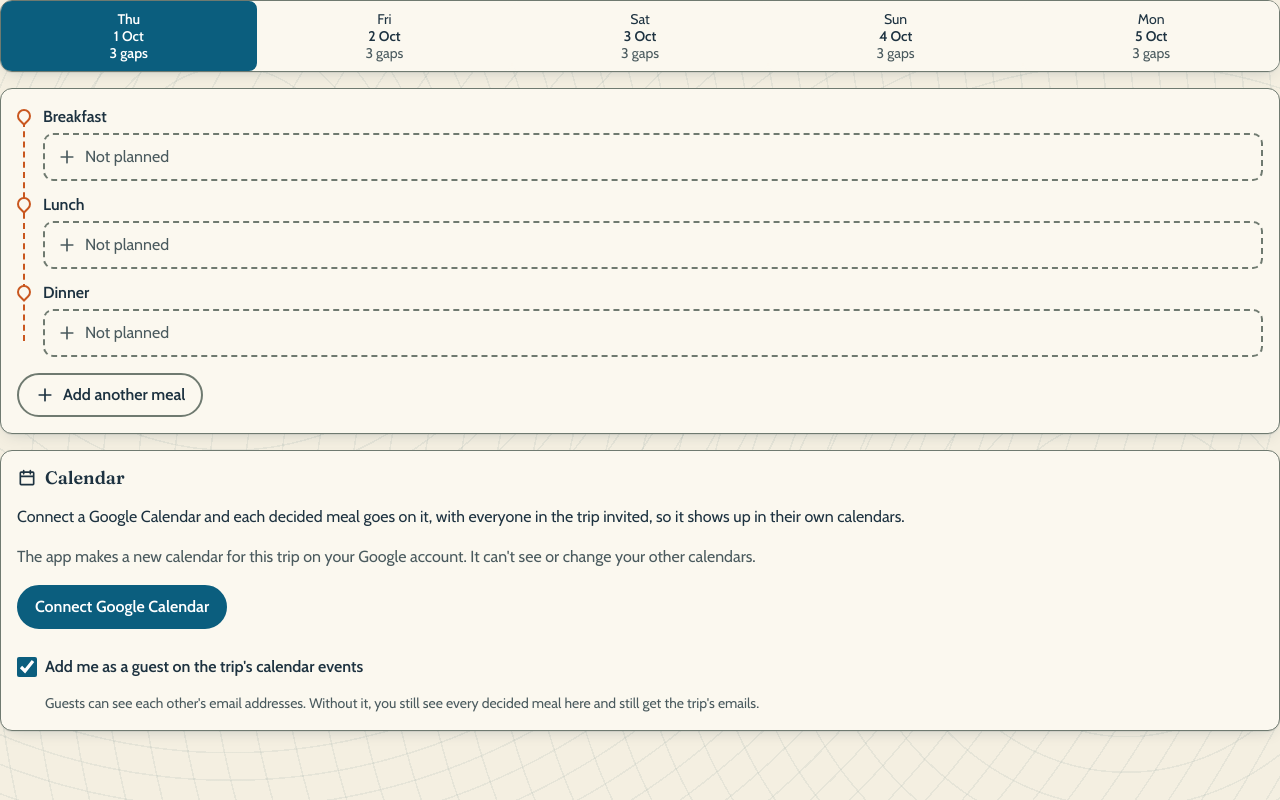
Test case: proposing from the grid › shows when a proposal was made on the trip's clock
Click the button "Dinner Not planned" at (653, 319), box x1=43 y1=281 x2=1263 y2=357
(page scrolled)
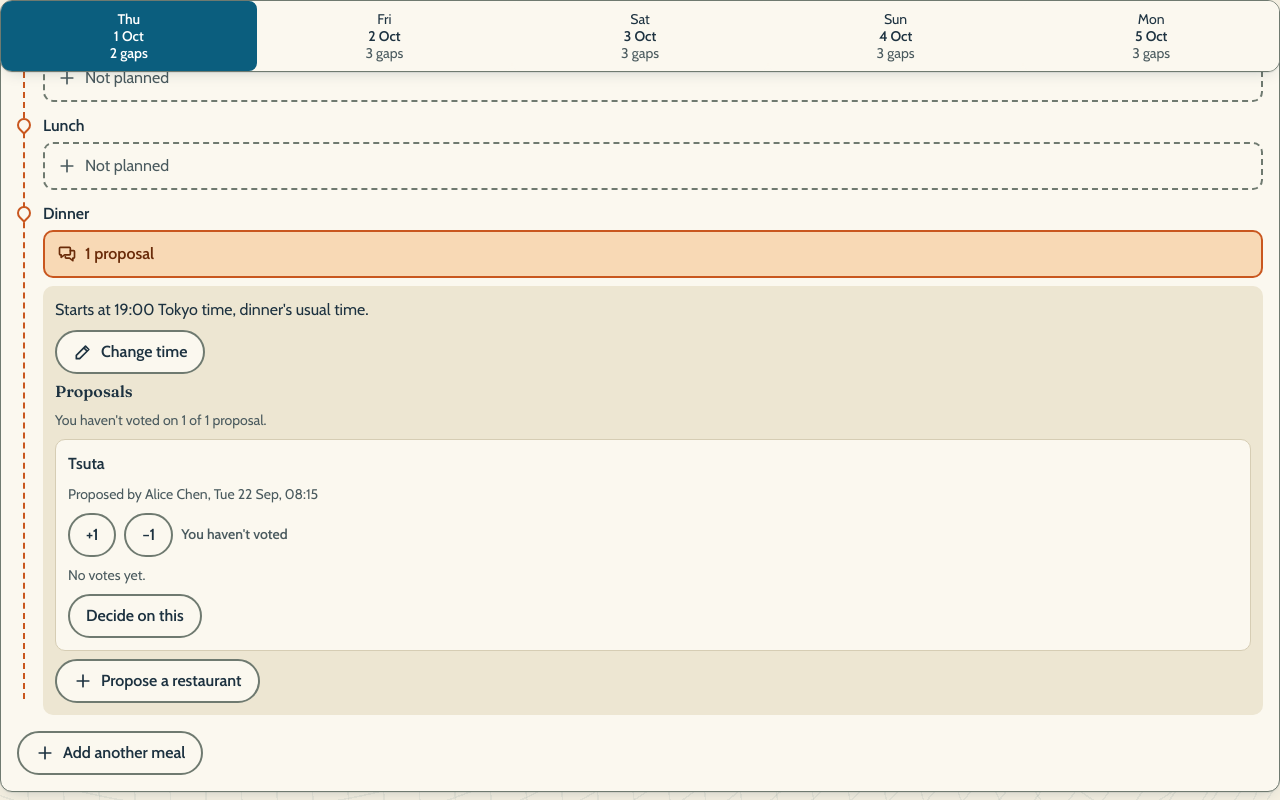
Expected: the panel shows "Tue 22 Sep, 08:15", x1=214 y1=485 x2=318 y2=503
